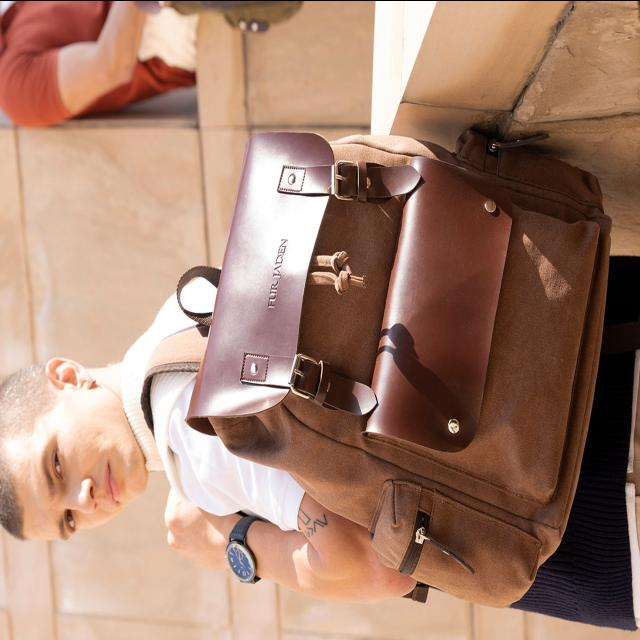backpack: (141, 128, 613, 610)
